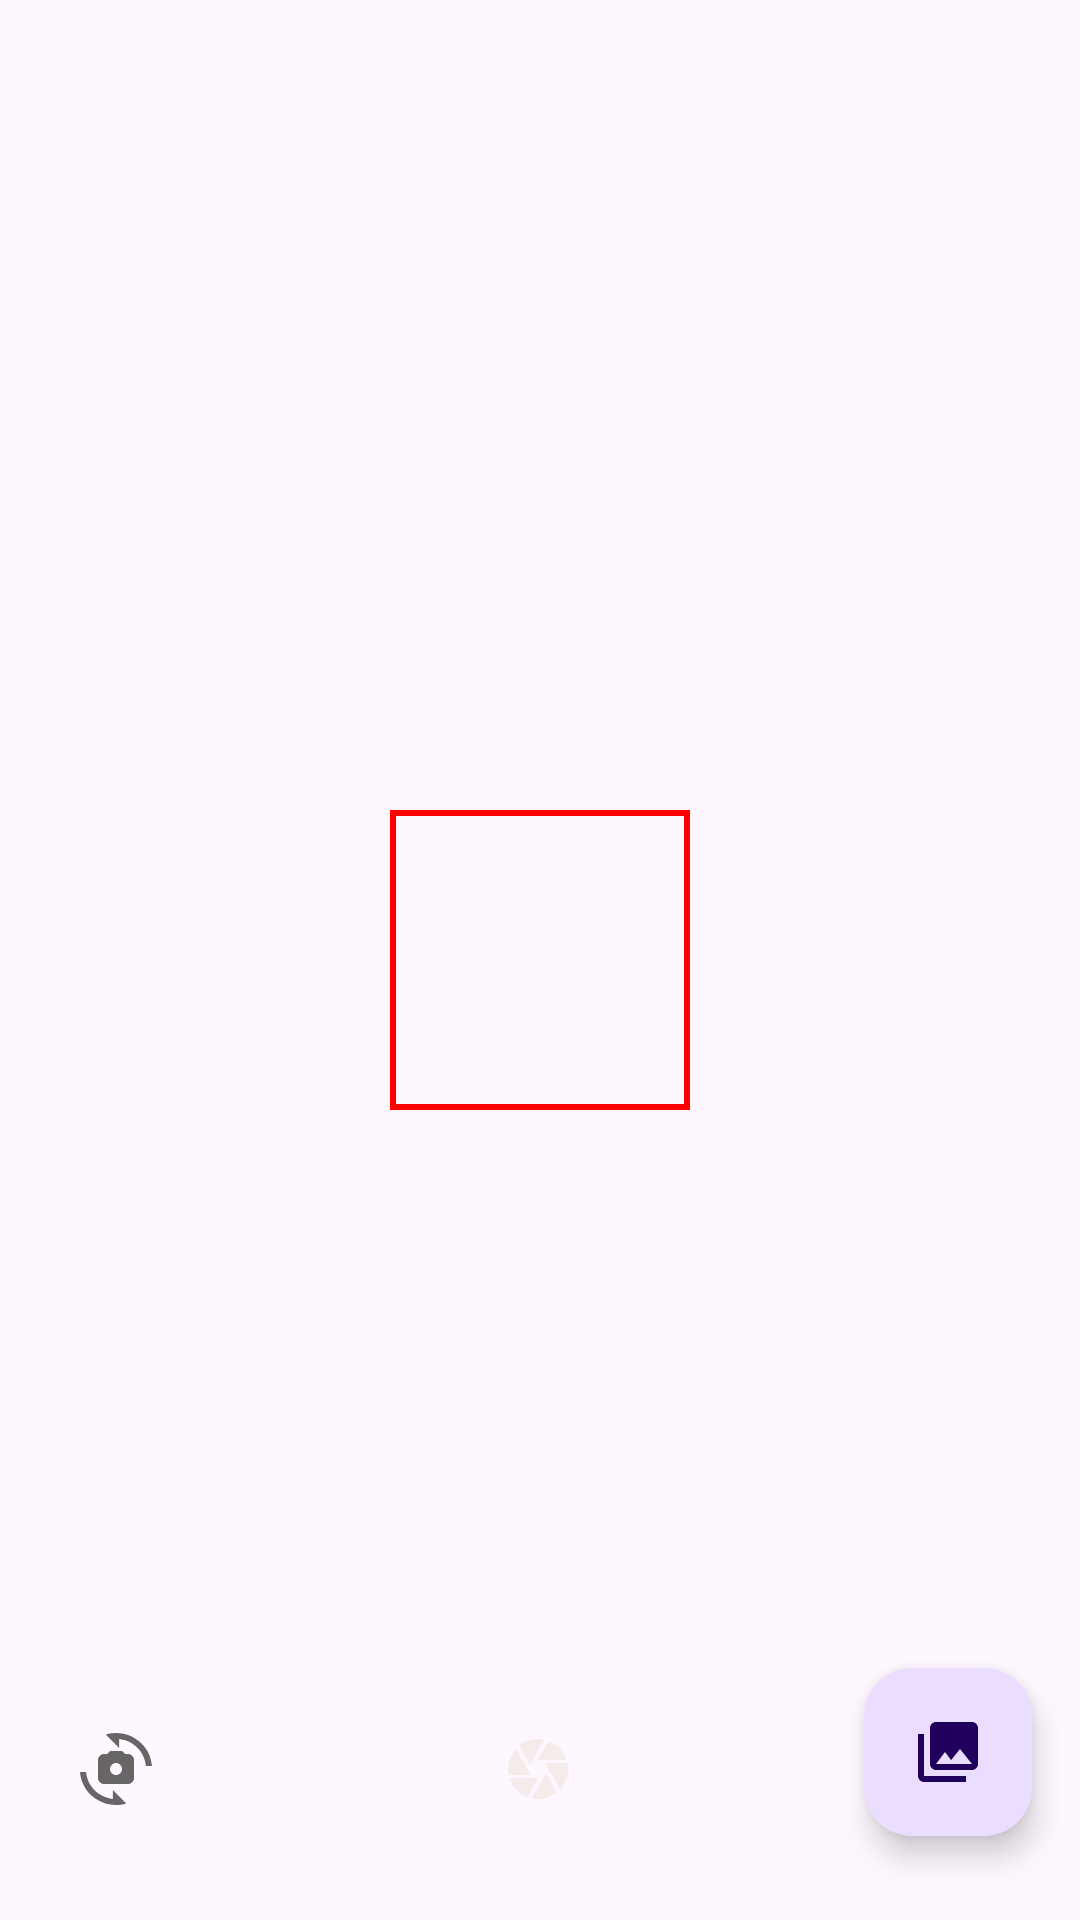

Icon bounding boxes for this 1080x1920 phone screenshot, format BBox(x1, y1, x2, y2):
cameraswitch: BBox(80, 1733, 152, 1805)
photo library: BBox(864, 1668, 1032, 1836)
